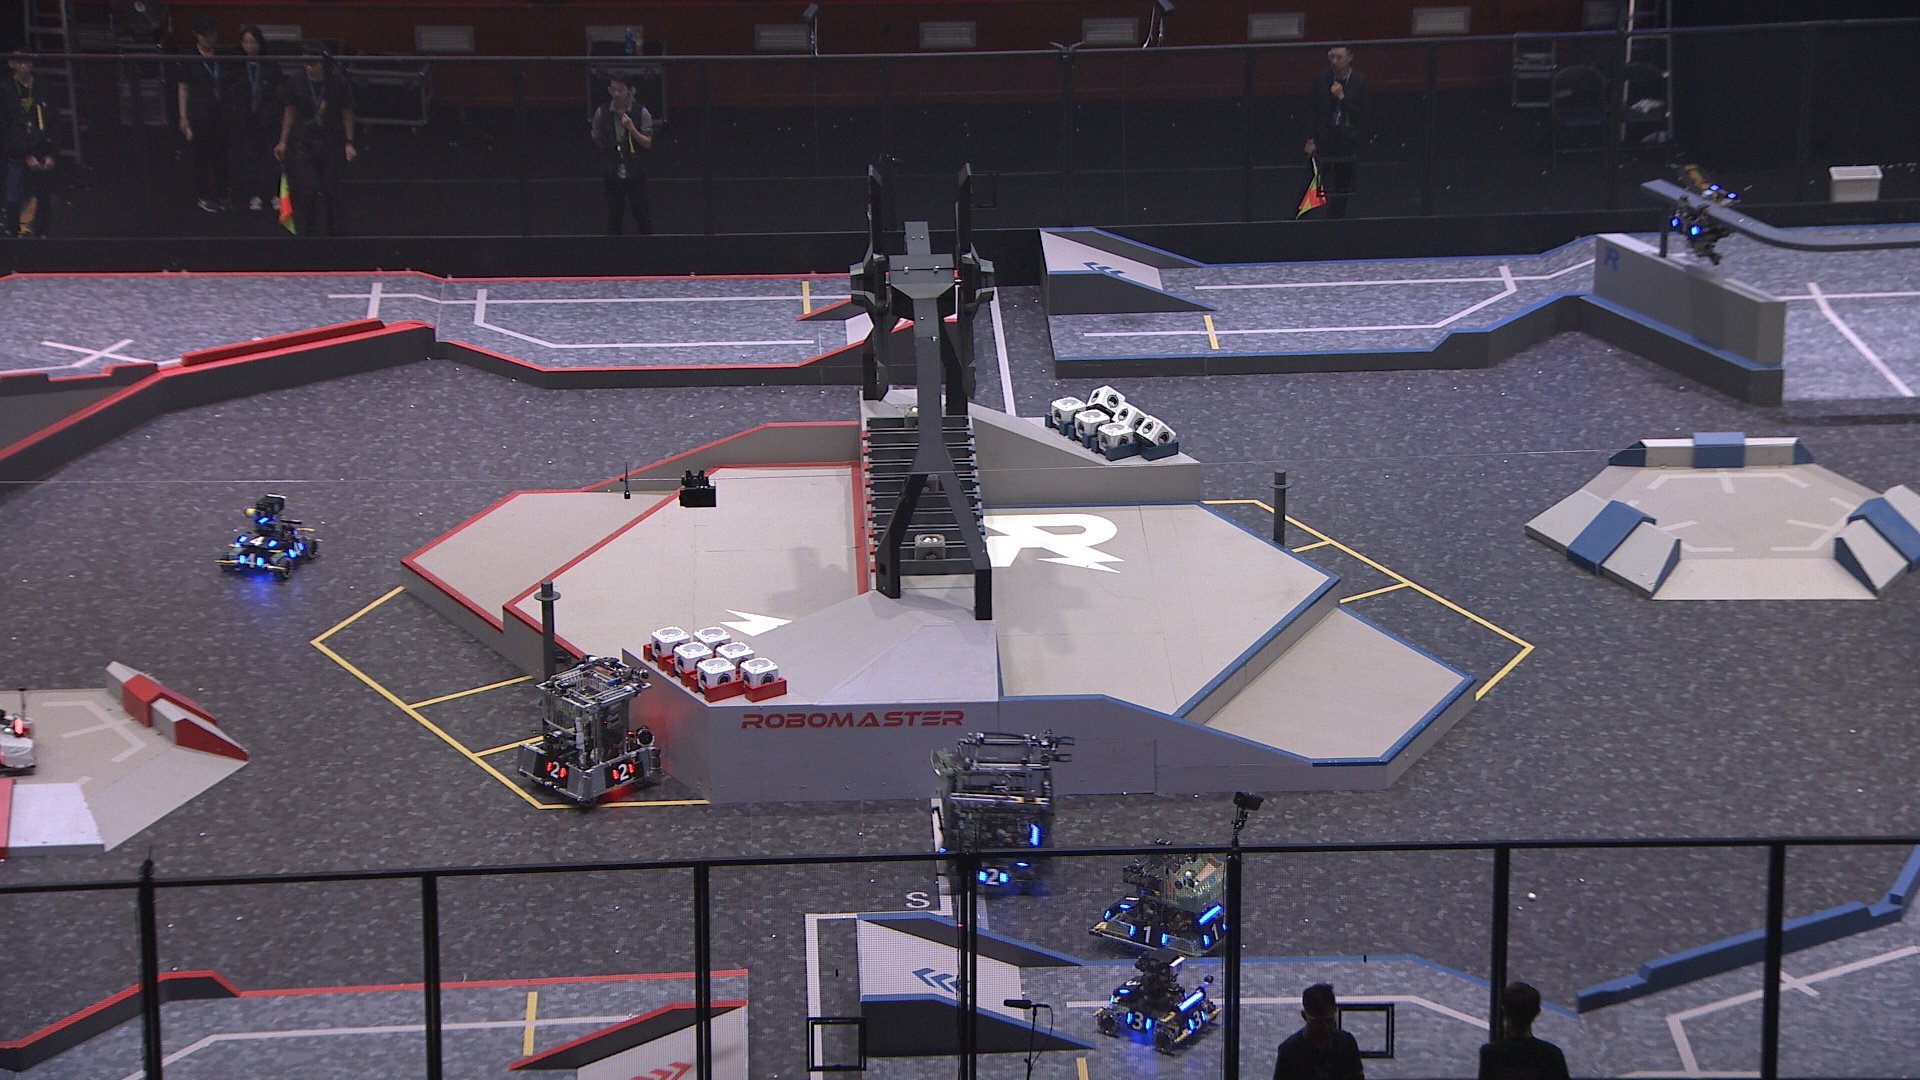armor: (1126, 920, 1168, 949), (1201, 916, 1236, 951), (1124, 1006, 1156, 1036), (1667, 214, 1700, 243), (607, 761, 637, 787), (233, 531, 276, 550), (975, 866, 1011, 887), (282, 534, 309, 560), (1187, 1006, 1209, 1036), (541, 760, 568, 783), (1112, 975, 1139, 998), (1120, 891, 1145, 915), (237, 549, 262, 570)
car: (514, 654, 661, 812), (934, 733, 1054, 893), (1093, 833, 1238, 963), (1092, 951, 1221, 1055), (215, 491, 319, 579)
watcher: (1667, 175, 1742, 268)
